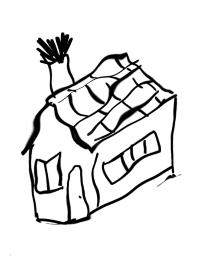closed_window: (97, 129, 164, 186), (30, 150, 66, 195)
door: (60, 162, 92, 225)
roof: (25, 51, 188, 151)
smoking_chimney: (30, 32, 86, 97)
wall: (23, 143, 99, 228)
